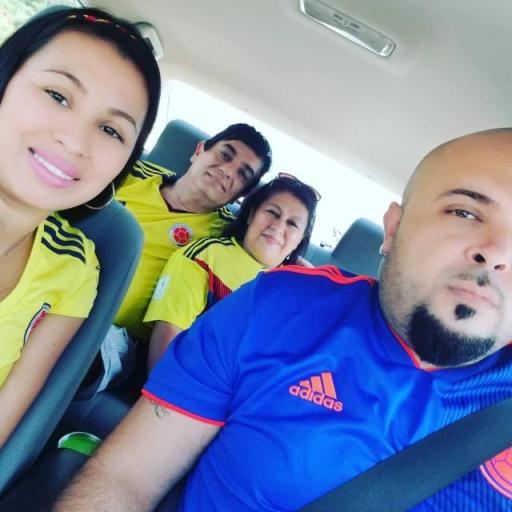Adidas: (286, 367, 345, 414)
